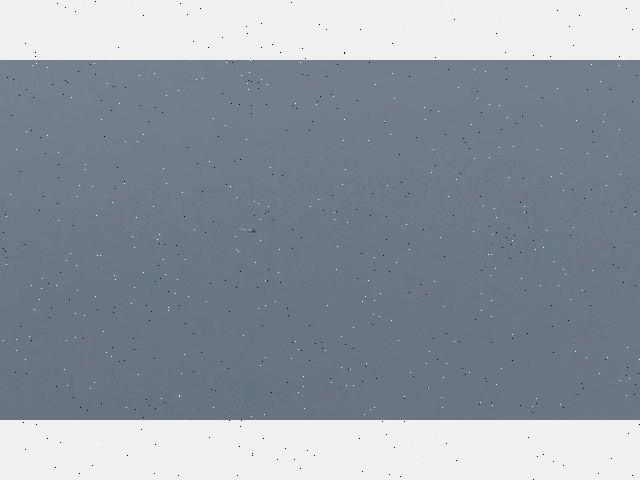Anti-Drone: (236, 224, 262, 236)
